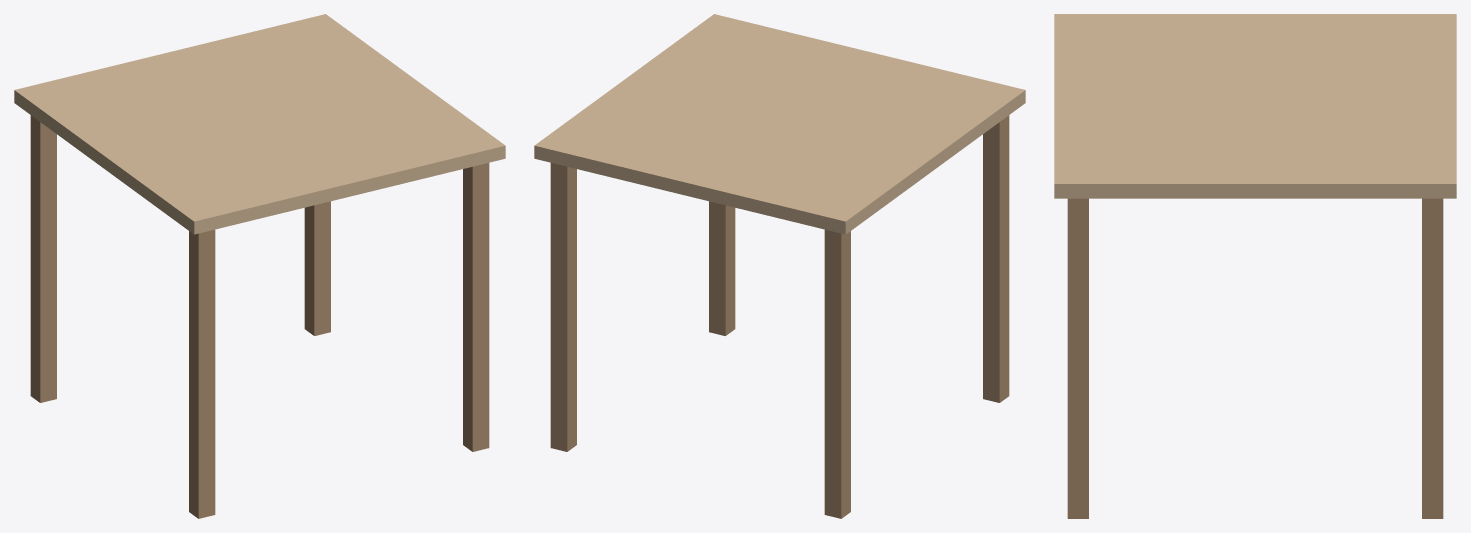
Rendered from dining_table.glb.
3 views of the same model, side by side, from view 1: azimuth 30°, elevation 25°; view 2: azimuth 150°, elevation 25°; view 3: azimuth 270°, elevation 25° (orthographic). The views are drawn at different scales.
Parts seen in each view (by area): view 1: dining_table; view 2: dining_table; view 3: dining_table.
Boxes of the visible parts, box(x1,y1,x2,y2) form: dining_table: box(14, 14, 505, 518); dining_table: box(534, 14, 1025, 518); dining_table: box(1054, 14, 1456, 518).
Size of the model in its own units: 0.75 by 0.7 by 0.75.
